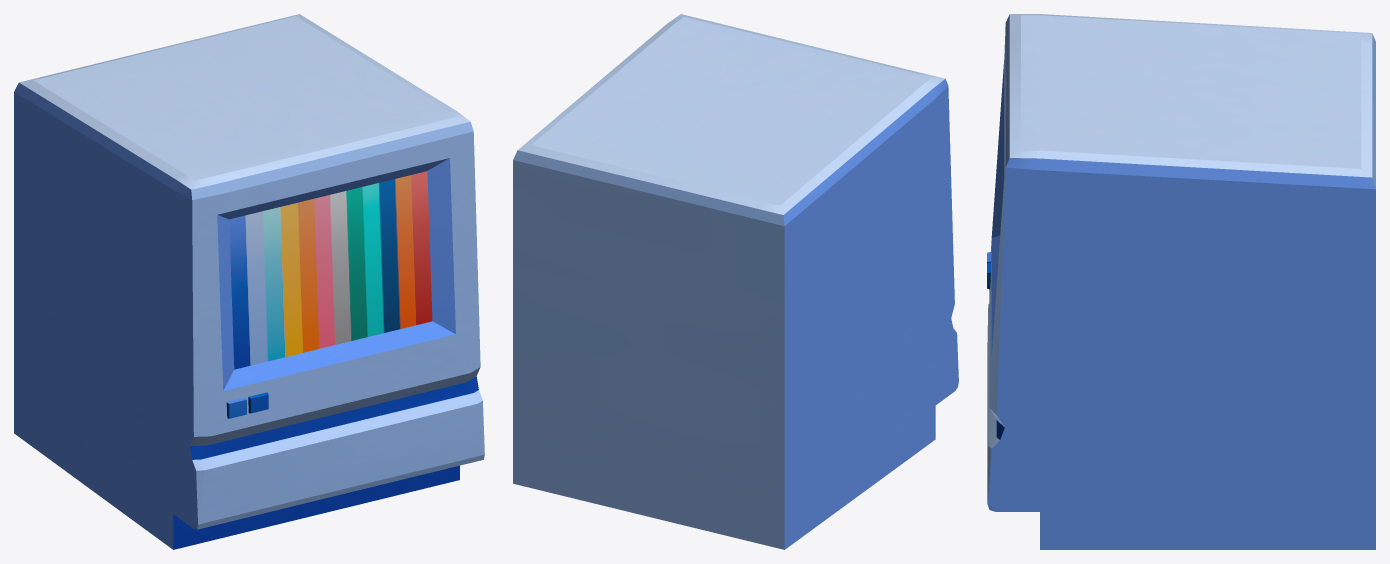
The model's file is DM_Computer.fbx.
The picture shows the model from 3 angles, left to right: view 1: azimuth 30°, elevation 25°; view 2: azimuth 150°, elevation 25°; view 3: azimuth 270°, elevation 25°; orthographic projection. The views are drawn at different scales.
Visible parts, largest first — view 1: MSH_PC, Object001; view 2: MSH_PC; view 3: MSH_PC.
Part boxes in pixels (left/top/right/bottom): MSH_PC: left=14, top=14, right=484, bottom=549; Object001: left=229, top=171, right=432, bottom=369; MSH_PC: left=513, top=14, right=958, bottom=549; MSH_PC: left=987, top=14, right=1375, bottom=549.
Size of the model in its own units: 32.23 by 40.03 by 35.88.
